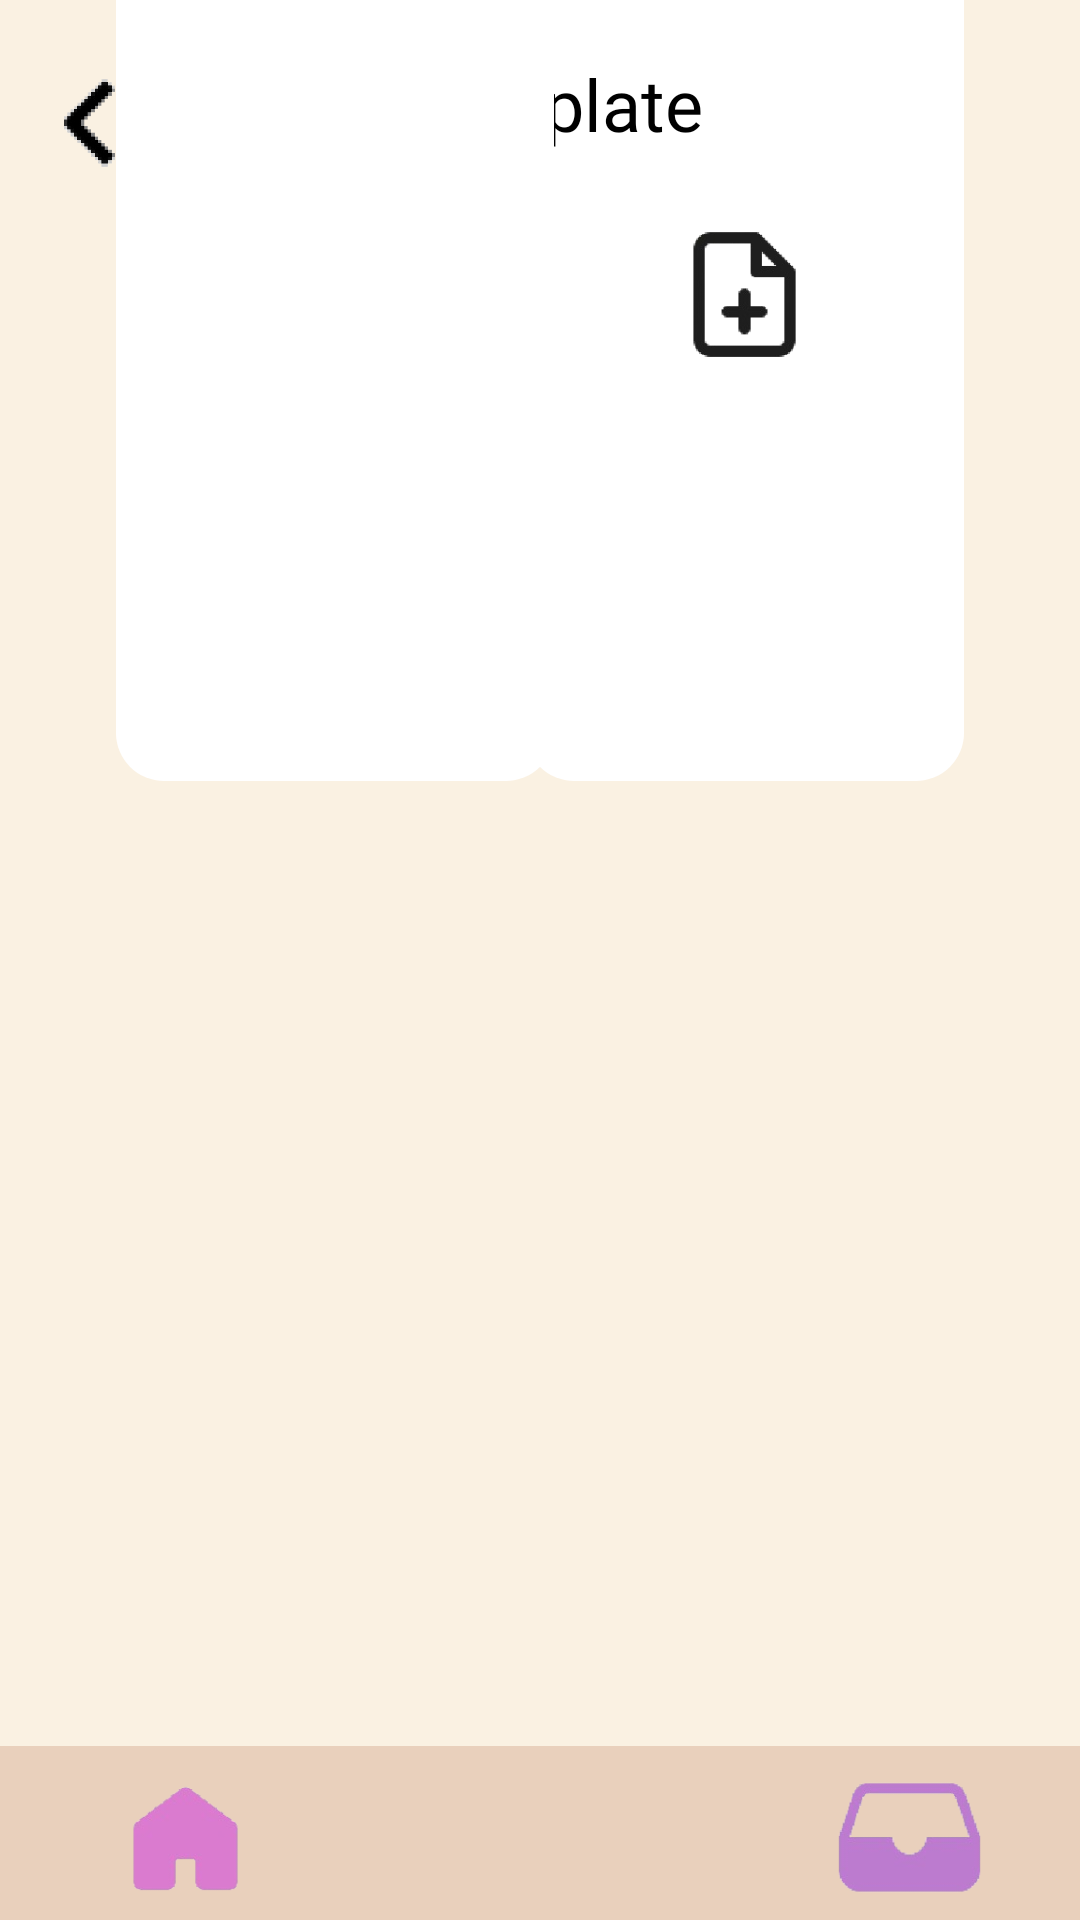

Icons on this 1080px×1920px Android screen, each with the point to tap as point (x, y):
add: point (744, 294)
home: point (185, 1838)
